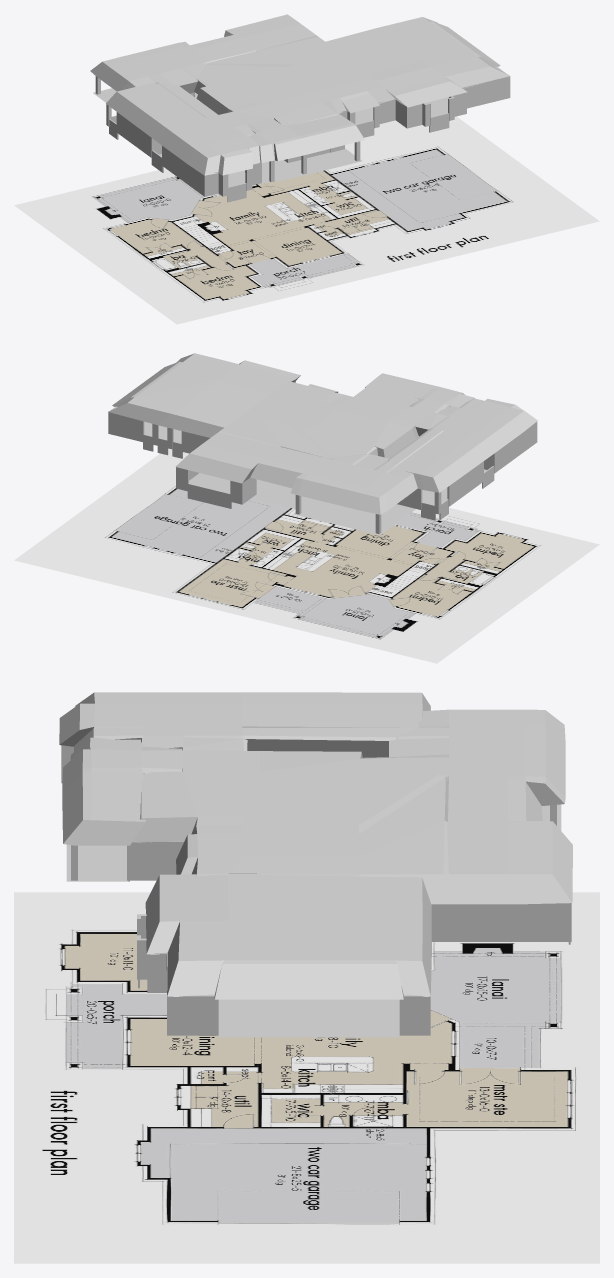
File: Test House.fbx
The picture shows the model from 3 angles, top to bottom: view 1: azimuth 30°, elevation 25°; view 2: azimuth 150°, elevation 25°; view 3: azimuth 270°, elevation 25°; orthographic projection. The views are drawn at different scales.
Visible parts, largest first — view 1: Floorplan, Roof, Walls Extruded, Floor; view 2: Floorplan, Roof, Walls Extruded, Floor; view 3: Floorplan, Roof, Walls Extruded, Floor.
Boxes of the visible parts, bbox=[...] form: Floorplan: bbox=[14, 116, 599, 324]; Roof: bbox=[90, 14, 509, 175]; Walls Extruded: bbox=[95, 36, 510, 202]; Floor: bbox=[93, 88, 448, 187]; Floorplan: bbox=[14, 448, 599, 663]; Roof: bbox=[108, 353, 537, 514]; Walls Extruded: bbox=[108, 361, 537, 533]; Floor: bbox=[144, 421, 486, 535]; Floorplan: bbox=[14, 892, 599, 1263]; Roof: bbox=[59, 692, 572, 999]; Walls Extruded: bbox=[61, 706, 571, 1035]; Floor: bbox=[66, 804, 561, 1037].
Size of the model in its own units: 60.95 by 18.91 by 40.63.
